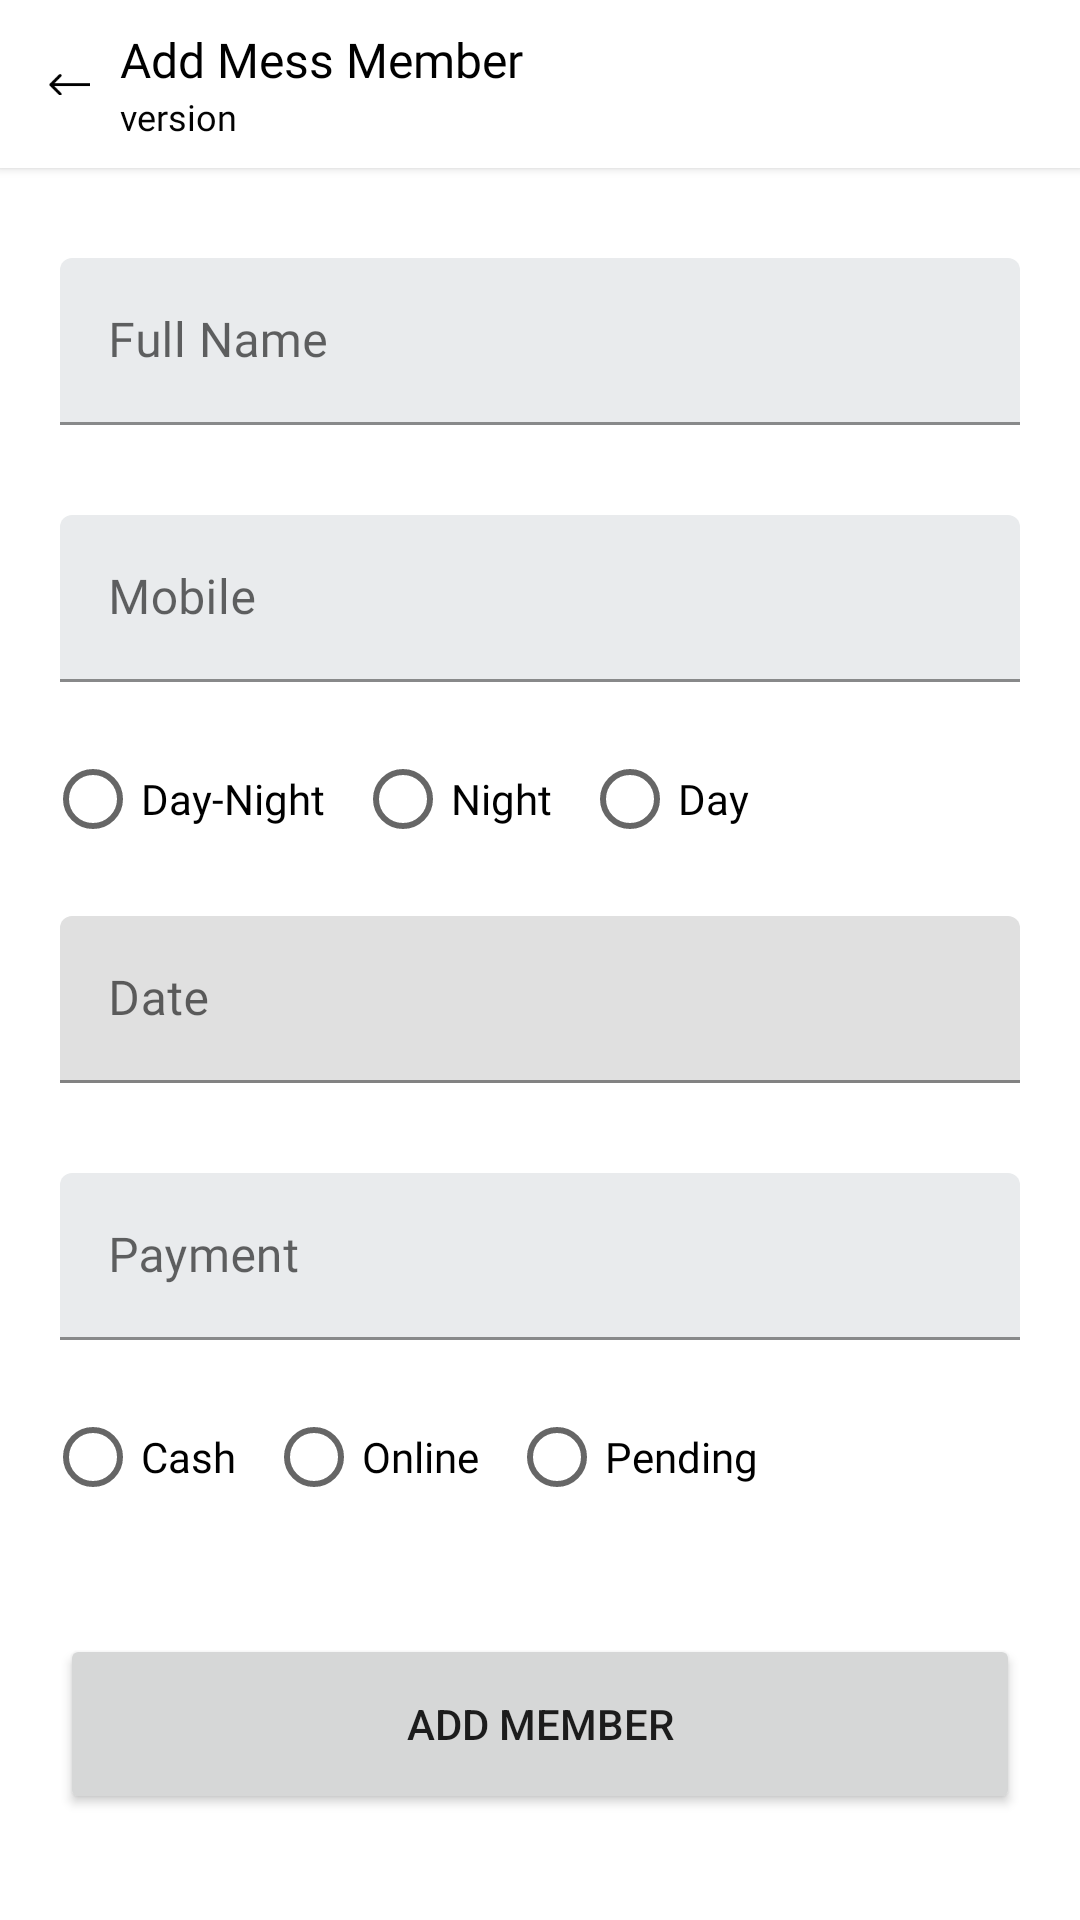

Named icons in this screenshot (1080px×1920px) and their bounding boxes, [x1,y1,x2,y2]:
back arrow: [49,74,90,95]
